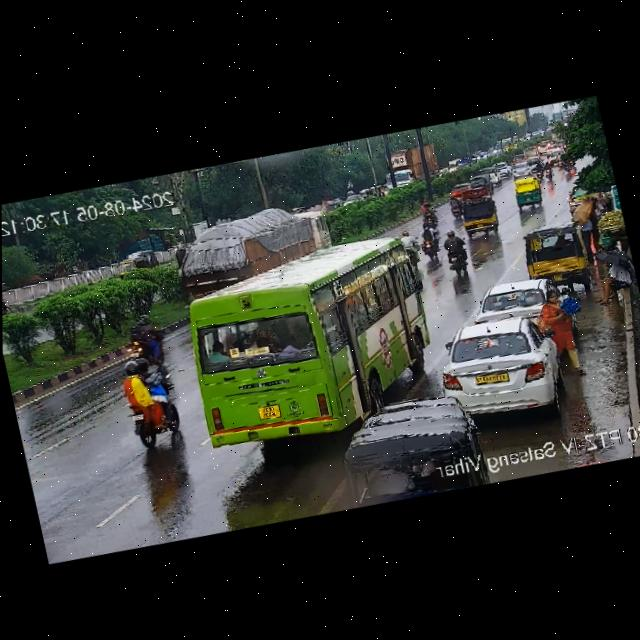bus: (168, 214, 452, 472)
car: (431, 305, 572, 428), (467, 273, 559, 330), (319, 179, 393, 212), (454, 193, 498, 236), (110, 249, 164, 283), (509, 175, 542, 210), (447, 181, 480, 203), (510, 161, 532, 178), (455, 155, 475, 168), (509, 154, 527, 166)
motorcycle: (118, 345, 191, 451), (393, 195, 448, 266), (119, 309, 172, 367), (439, 226, 472, 281), (535, 152, 578, 186)
person: (578, 238, 637, 306), (533, 290, 580, 361), (574, 189, 618, 259)
truck: (156, 191, 340, 319), (378, 134, 446, 195)
